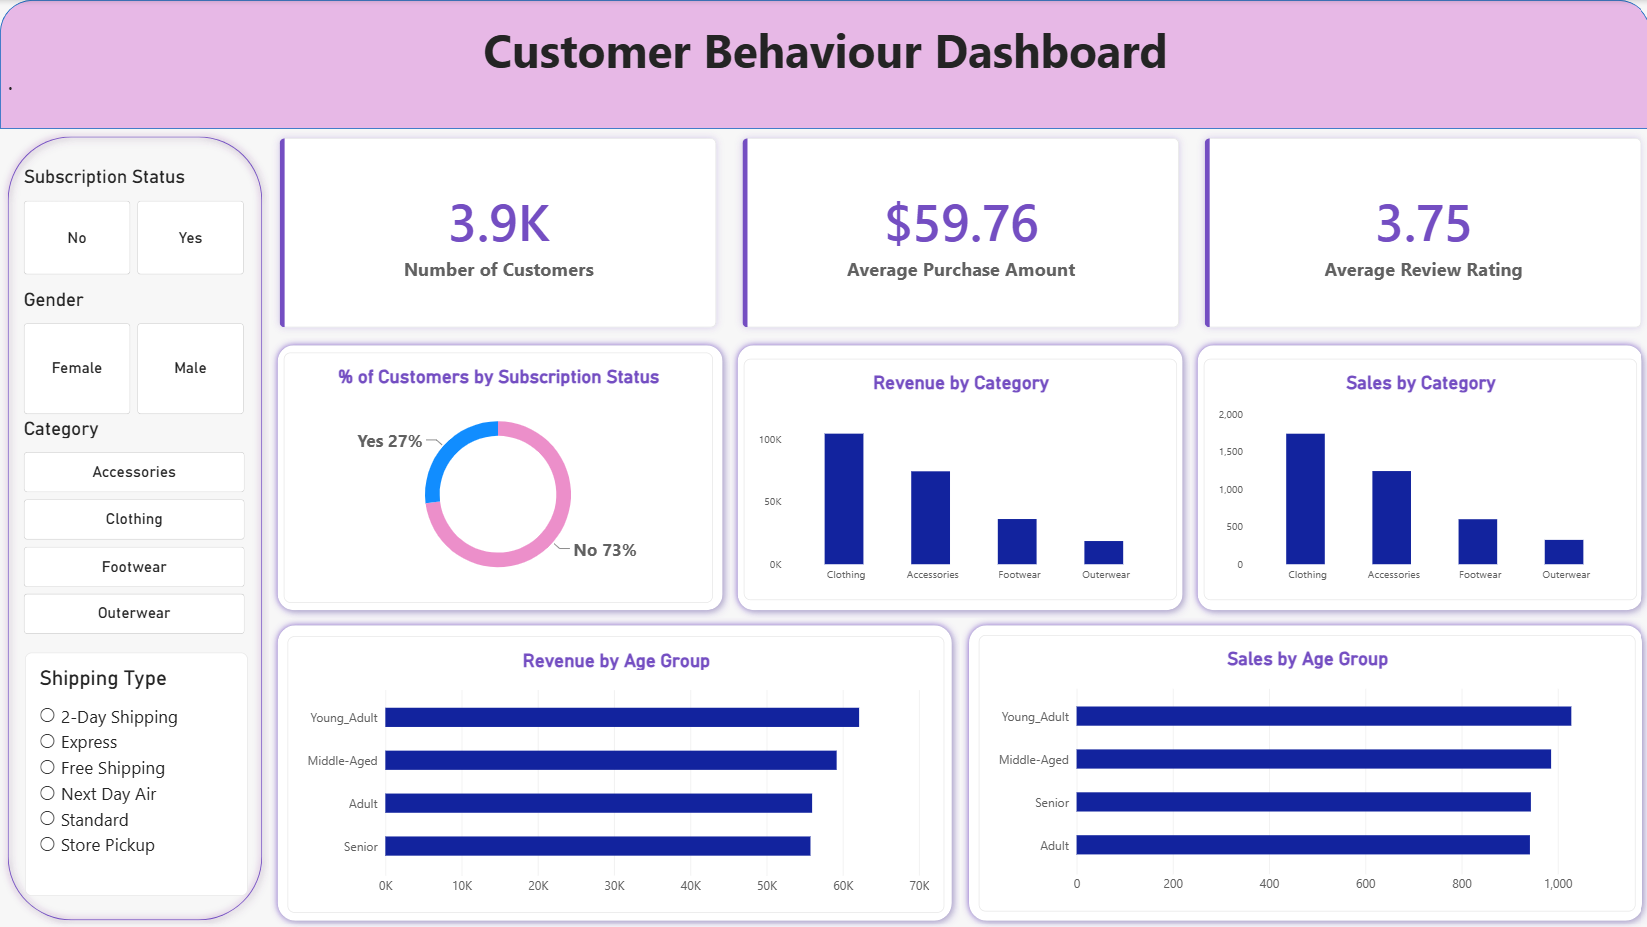

The dashboard page shown, as its layout file describes it:
{"tool":"powerbi","page":{"name":"Dashboard","canvas":[1920,1080],"ordinal":0},"visuals":[{"type":"cardVisual","fields":{"Data":["public customer.Number of Customers","public customer.Average Purchase Amount","public customer.Average Review Rating"]},"box":[314,150,1606.4,242.4],"z":0},{"type":"shape","box":[0,0,1920.4,150.1],"z":1000},{"type":"textbox","box":[0,21.9,1920.4,127.9],"z":2000},{"type":"shape","box":[849.4,392.4,535.5,326.2],"z":3000},{"type":"columnChart","title":"Revenue by Category","fields":{"Category":["public customer.category"],"Y":["Sum(public customer.purchase_amount)"]},"box":[865.1,416.9,504.1,280.8],"z":4000},{"type":"shape","box":[1384.9,392.4,535.5,326.2],"z":5000},{"type":"shape","box":[314,392.4,535.5,326.2],"z":6000},{"type":"donutChart","title":"% of Customers by Subscription Status","fields":{"Category":["public customer.subscription_status"],"Y":["CountNonNull(public customer.customer_id)"]},"box":[329.7,409.9,498.8,291.3],"z":7000},{"type":"columnChart","title":"Sales by Category","fields":{"Category":["public customer.category"],"Y":["CountNonNull(public customer.customer_id)"]},"box":[1400.6,416.9,504.1,280.8],"z":8000},{"type":"shape","box":[0,149.8,314,929.7],"z":9000},{"type":"advancedSlicerVisual","fields":{"Values":["public customer.subscription_status"]},"box":[27.4,193.7,257.6,126.1],"z":10000},{"type":"advancedSlicerVisual","fields":{"Values":["public customer.gender"]},"box":[27.4,336.2,257.6,146.2],"z":11000},{"type":"advancedSlicerVisual","fields":{"Values":["public customer.category"]},"box":[27.4,486,257.6,255.8],"z":12000},{"type":"listSlicer","fields":{"Values":["public customer.shipping_type"]},"box":[29.2,758.3,259.5,283.2],"z":13000},{"type":"shape","box":[314.3,718.1,802.1,361.8],"z":14000},{"type":"clusteredBarChart","title":"Revenue by Age Group","fields":{"Category":["public customer.age_group"],"Y":["Sum(public customer.purchase_amount)"]},"box":[334.4,740,763.8,321.6],"z":15000},{"type":"shape","box":[1118.2,718.1,802.1,361.8],"z":16000},{"type":"clusteredBarChart","title":"Sales by Age Group","fields":{"Category":["public customer.age_group"],"Y":["CountNonNull(public customer.customer_id)"]},"box":[1138.3,738.2,763.8,321.6],"z":17000}]}

Visuals, with their boxes in screenshot pixels (x1, y1, x2, y2), scaled from the page's 1920x1080 canvas onto the 1647x927 screenshot:
cardVisual - public customer.Number of Customers x public customer.Average Purchase Amount: select_region(269, 129, 1646, 337)
shape: select_region(0, 0, 1646, 129)
textbox: select_region(0, 19, 1646, 129)
shape: select_region(729, 337, 1188, 617)
"Revenue by Category" columnChart: select_region(742, 358, 1175, 599)
shape: select_region(1188, 337, 1646, 617)
shape: select_region(269, 337, 729, 617)
"% of Customers by Subscription Status" donutChart: select_region(283, 352, 711, 602)
"Sales by Category" columnChart: select_region(1201, 358, 1634, 599)
shape: select_region(0, 129, 269, 926)
advancedSlicerVisual - public customer.subscription_status: select_region(24, 166, 244, 274)
advancedSlicerVisual - public customer.gender: select_region(24, 289, 244, 414)
advancedSlicerVisual - public customer.category: select_region(24, 417, 244, 637)
listSlicer - public customer.shipping_type: select_region(25, 651, 248, 894)
shape: select_region(270, 616, 958, 926)
"Revenue by Age Group" clusteredBarChart: select_region(287, 635, 942, 911)
shape: select_region(959, 616, 1646, 926)
"Sales by Age Group" clusteredBarChart: select_region(976, 634, 1632, 910)
